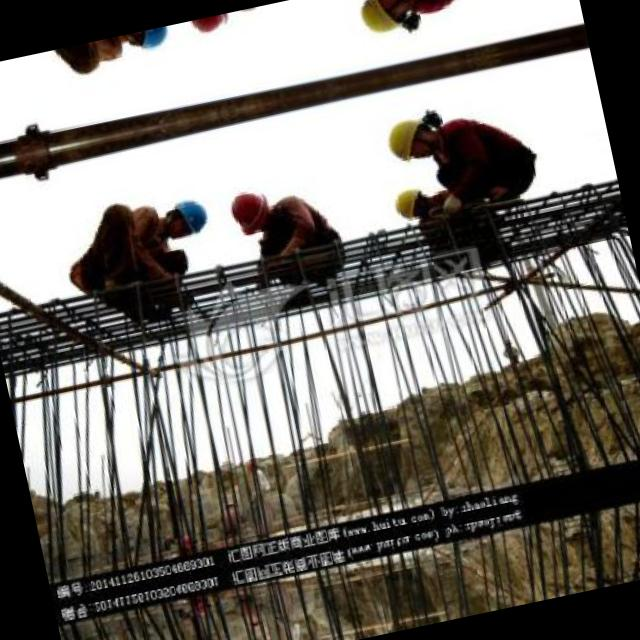helmet: (221, 184, 278, 237), (378, 113, 439, 162), (156, 194, 212, 240), (351, 0, 412, 36), (121, 24, 175, 54), (391, 183, 432, 220), (184, 12, 237, 36)
